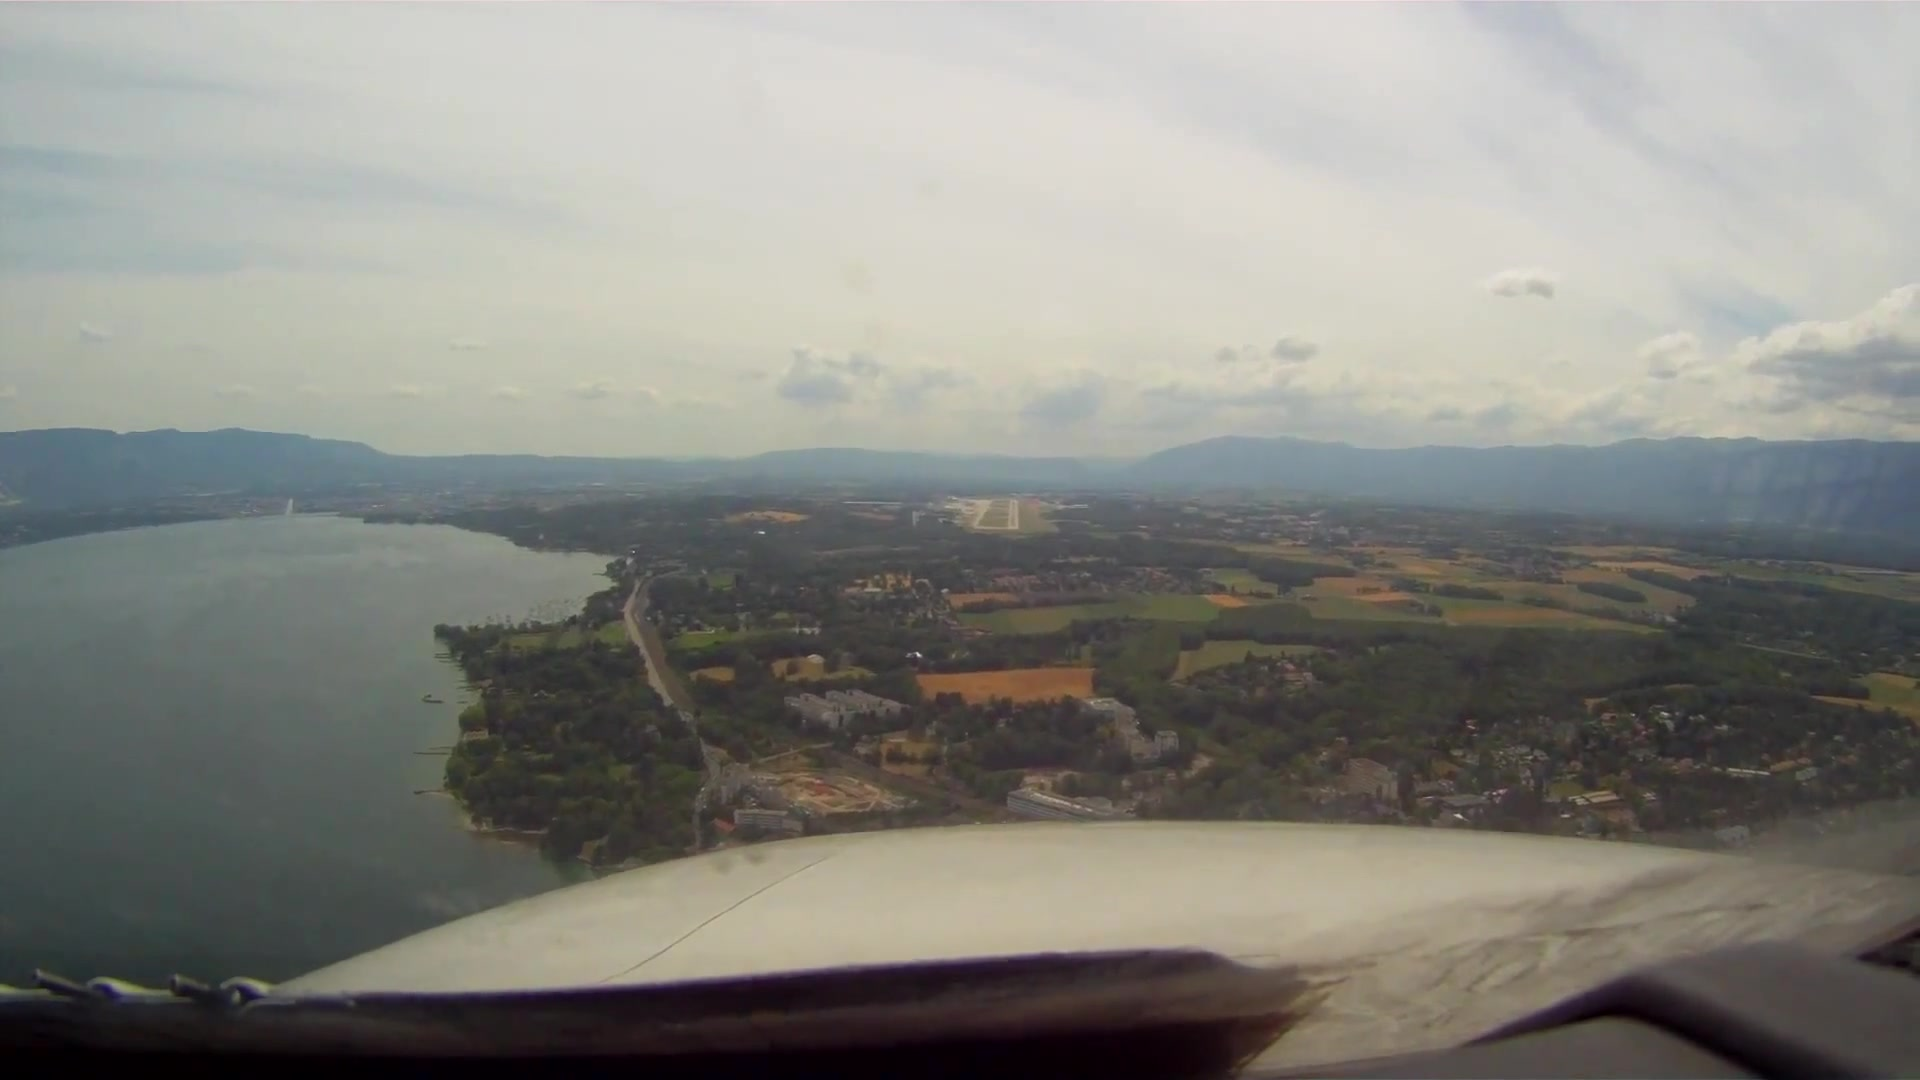runway: (1006, 498, 1021, 531)
